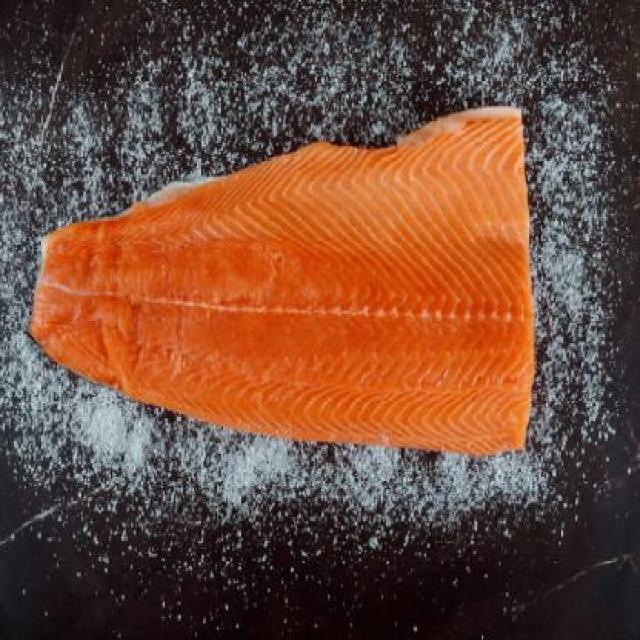salmon: (28, 111, 554, 468)
